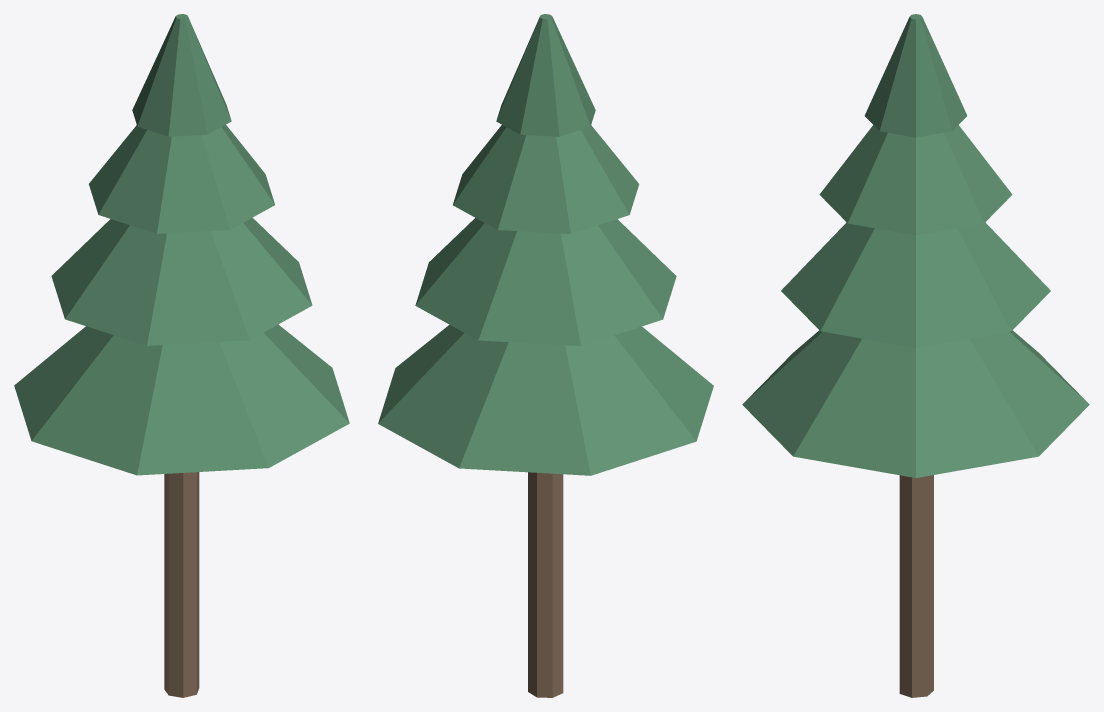
File: pine_tree.glb
The picture shows the model from 3 angles, left to right: view 1: azimuth 30°, elevation 25°; view 2: azimuth 150°, elevation 25°; view 3: azimuth 270°, elevation 25°; orthographic projection.
Parts seen in each view (by area): view 1: Tier_3.1, Tier_4.0, Tier_4.75, Trunk, Tier_5.35; view 2: Tier_3.1, Tier_4.0, Tier_4.75, Trunk, Tier_5.35; view 3: Tier_3.1, Tier_4.0, Tier_4.75, Trunk, Tier_5.35.
Part boxes in pixels (<box>): Tier_3.1: <box>14,324,349,475</box>; Tier_4.0: <box>51,217,312,345</box>; Tier_4.75: <box>89,125,274,233</box>; Trunk: <box>164,472,199,697</box>; Tier_5.35: <box>132,14,231,136</box>; Tier_3.1: <box>378,324,713,475</box>; Tier_4.0: <box>415,218,676,346</box>; Tier_4.75: <box>453,125,639,233</box>; Trunk: <box>528,472,563,697</box>; Tier_5.35: <box>496,14,595,136</box>; Tier_3.1: <box>742,330,1089,477</box>; Tier_4.0: <box>781,222,1050,347</box>; Tier_4.75: <box>819,125,1012,235</box>; Trunk: <box>899,475,933,697</box>; Tier_5.35: <box>864,14,967,137</box>.
Size of the model in its own units: 2.7 by 5.77 by 2.7.
